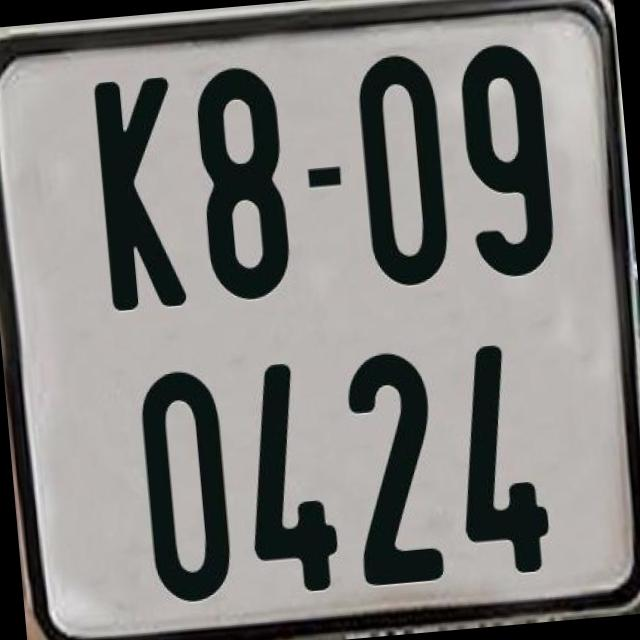0: (136, 365, 238, 609), (354, 46, 454, 286)
2: (344, 349, 452, 593)
4: (238, 359, 348, 605), (446, 341, 552, 579)
8: (188, 59, 295, 300)
9: (453, 38, 561, 284)
K: (91, 74, 194, 310)
